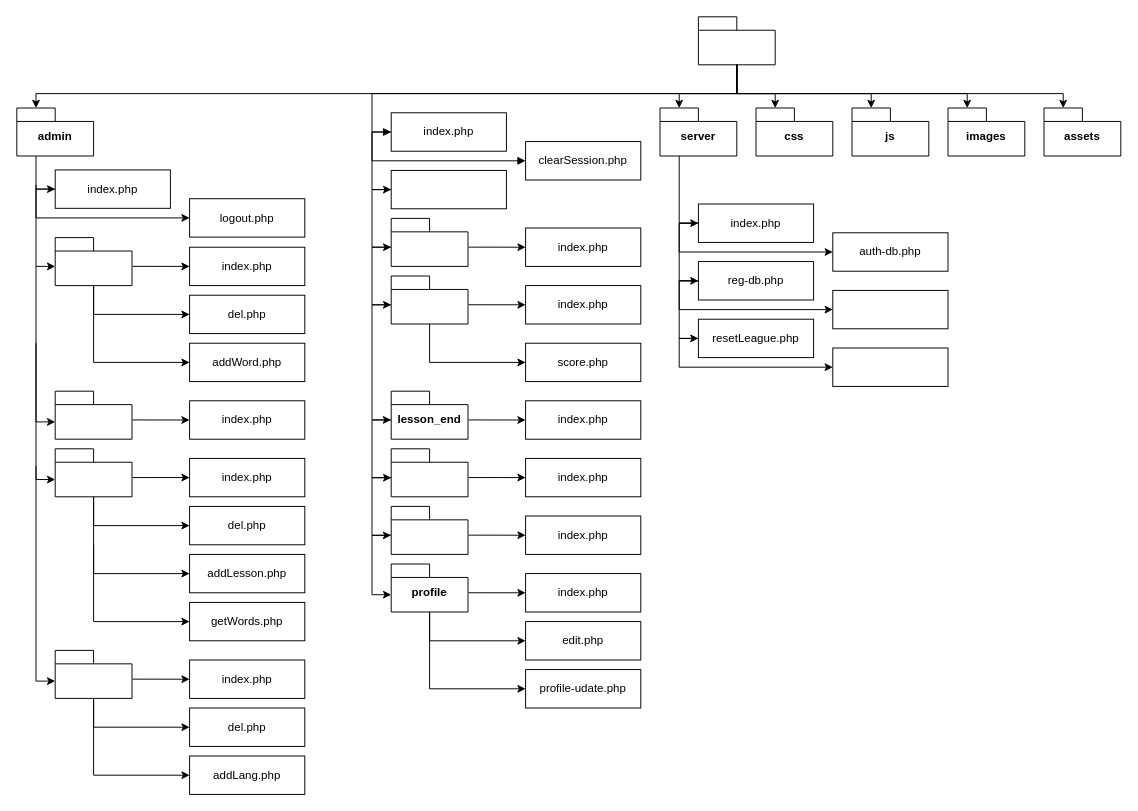
This 1138x811 diagram has some shape labels left out. Each missing label, with the box of its shape:
add_language: (54, 649, 132, 698)
add_lesson: (54, 448, 132, 497)
connection-db.php: (390, 169, 506, 209)
dictionary: (390, 505, 468, 554)
league: (390, 448, 468, 497)
league.php: (832, 289, 948, 329)
lesson: (390, 275, 468, 324)
sendmail.php: (832, 347, 948, 386)
Talkie Lang: (697, 16, 775, 65)
users: (54, 390, 132, 439)
welcome: (390, 217, 468, 266)
words: (54, 237, 132, 286)
